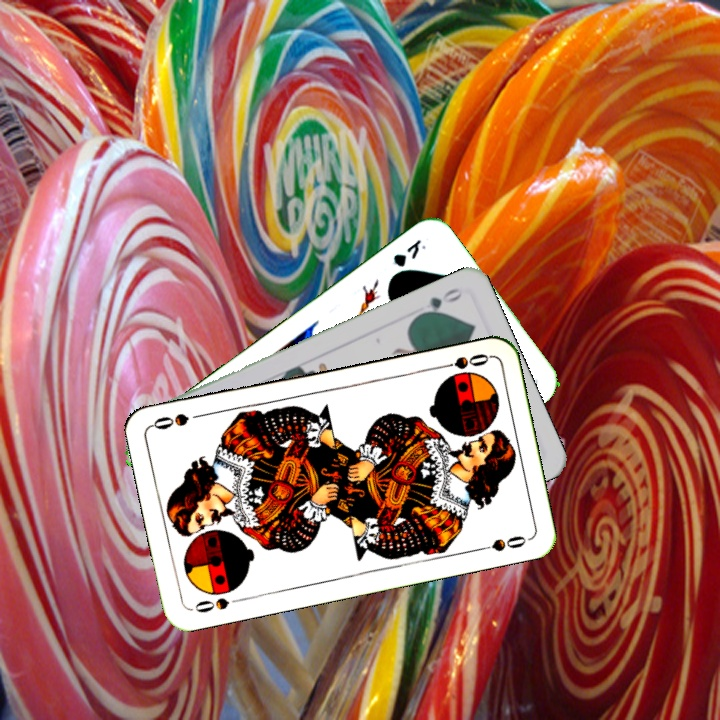GK: (389, 235, 429, 270)
GO: (412, 284, 466, 320)
SO: (433, 349, 492, 372), (188, 593, 247, 616)
